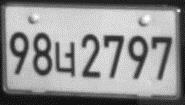2: (81, 33, 100, 79)
7: (149, 36, 173, 82), (103, 34, 123, 79)
8: (32, 32, 52, 77)
9: (127, 34, 148, 80), (9, 31, 29, 75)
너: (54, 40, 76, 78)
